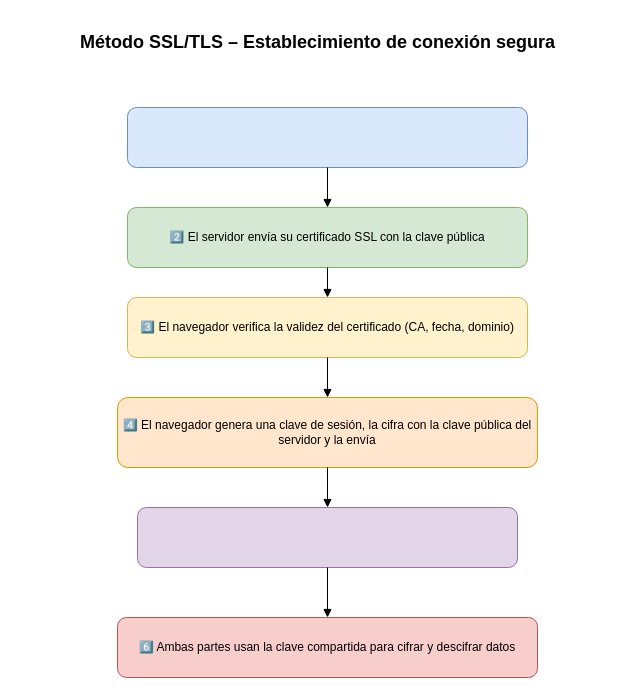
The diagram is 634 pixels wide and 695 high, and some of its shapes have lost their labels. Each missing label, with the centre of its shape:
"1️⃣ El navegador solicita una conexión segura (HTTPS)" goes at point (327, 137).
"5️⃣ El servidor descifra la clave de sesión con su clave privada" goes at point (327, 537).
